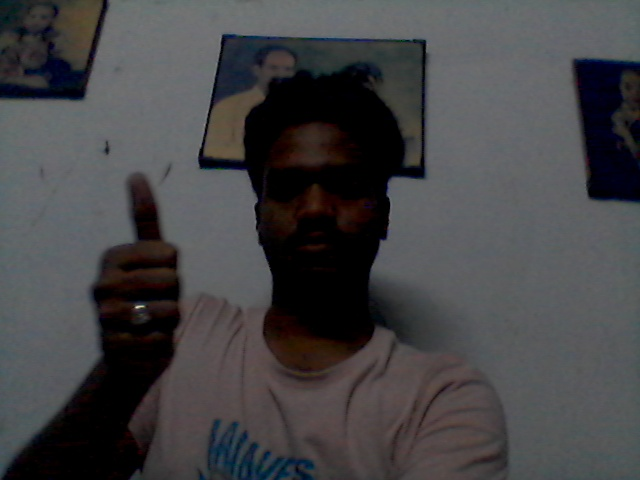Fine: (90, 164, 197, 386)
